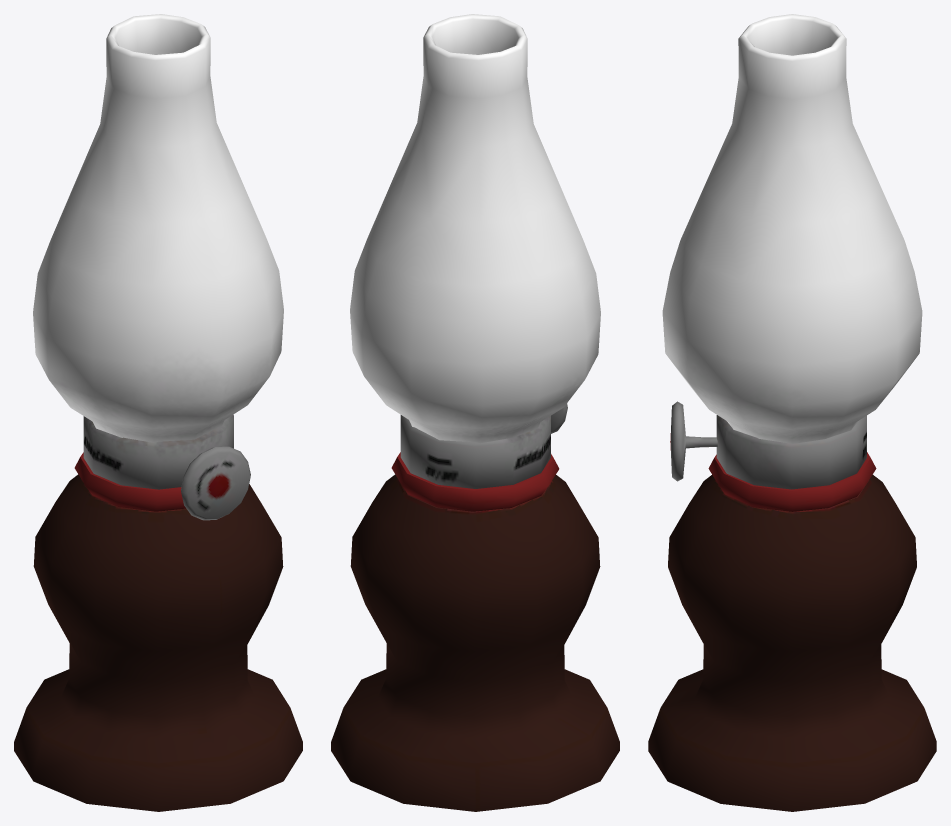
File: tableLamp03.FBX
3 views of the same model, side by side, from view 1: azimuth 30°, elevation 25°; view 2: azimuth 150°, elevation 25°; view 3: azimuth 270°, elevation 25° (orthographic).
Parts seen in each view (by area): view 1: SM_TableLamp03; view 2: SM_TableLamp03; view 3: SM_TableLamp03.
Boxes of the visible parts, bbox=[...] form: SM_TableLamp03: bbox=[14, 14, 302, 811]; SM_TableLamp03: bbox=[331, 14, 619, 811]; SM_TableLamp03: bbox=[648, 14, 936, 811].
Bounding box in the file's own units: 7.85 × 21.49 × 7.85.
Materials: 3 (3 with a texture image).
